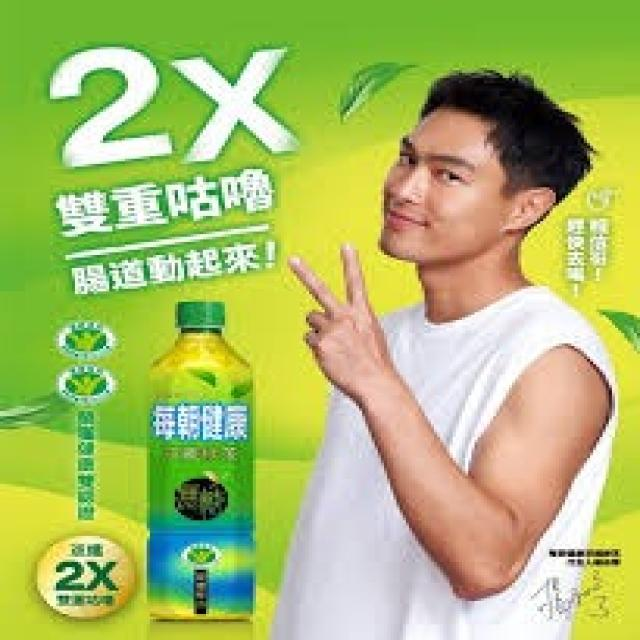MeiChou_GreenTea: (138, 298, 262, 622)
